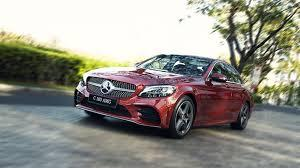mazda: (100, 79, 113, 93)
